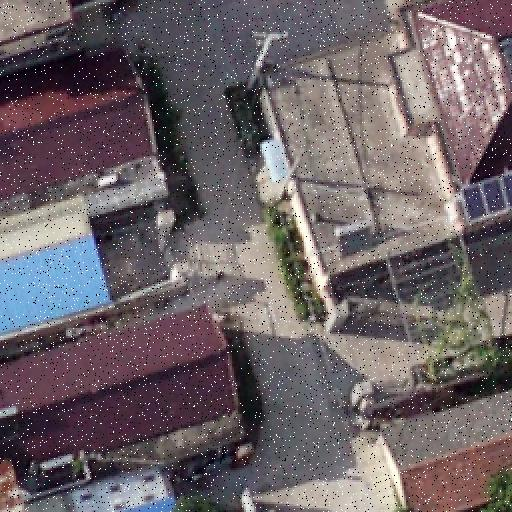solar-panel: (456, 173, 512, 227)
